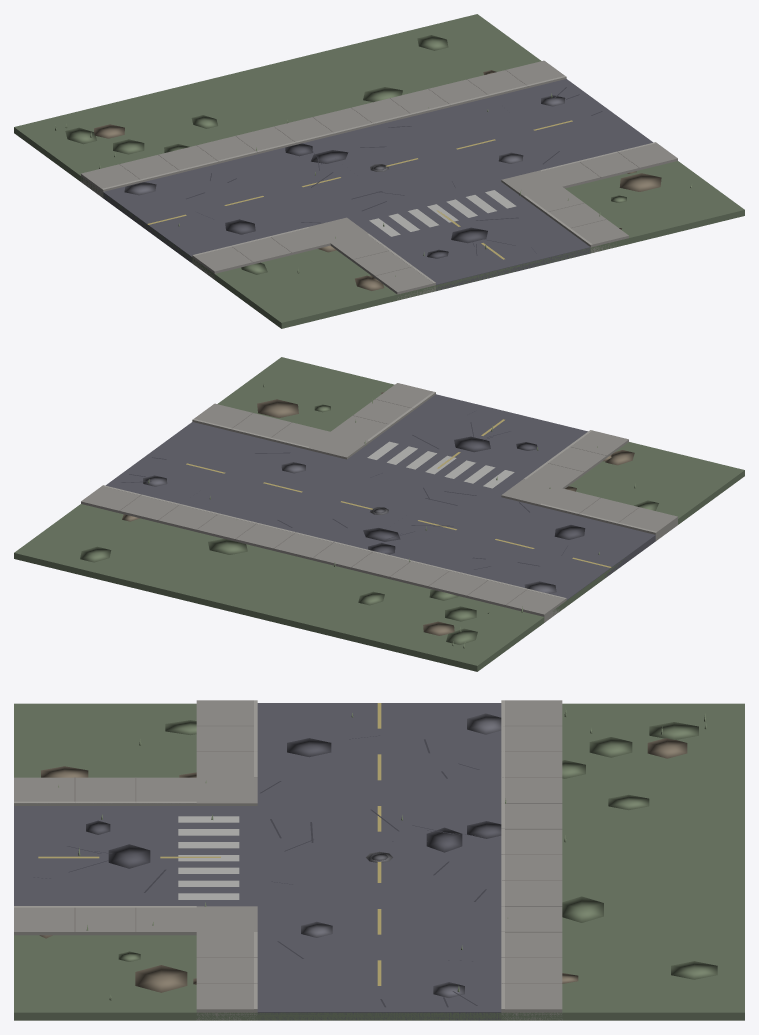
The model's file is rua_T.glb.
The picture shows the model from 3 angles, top to bottom: view 1: azimuth 30°, elevation 25°; view 2: azimuth 150°, elevation 25°; view 3: azimuth 270°, elevation 25°; orthographic projection. The views are drawn at different scales.
Parts seen in each view (by area): view 1: rua_T; view 2: rua_T; view 3: rua_T.
Boxes of the visible parts, x1,y1,x2,y2 form: rua_T: (14, 14, 744, 328); rua_T: (14, 357, 744, 671); rua_T: (14, 700, 744, 1020).
Bounding box in the file's own units: 24 × 0.6714 × 24.
